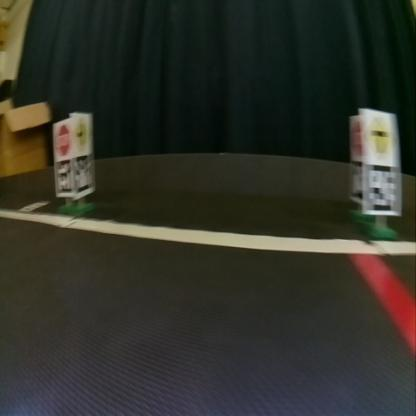Intersection sign: (366, 114, 393, 157), (76, 120, 88, 148)
QR code: (364, 166, 399, 210), (74, 155, 92, 193), (54, 160, 71, 192), (351, 160, 363, 200)
Stop sign: (348, 119, 362, 158), (53, 125, 70, 157)
